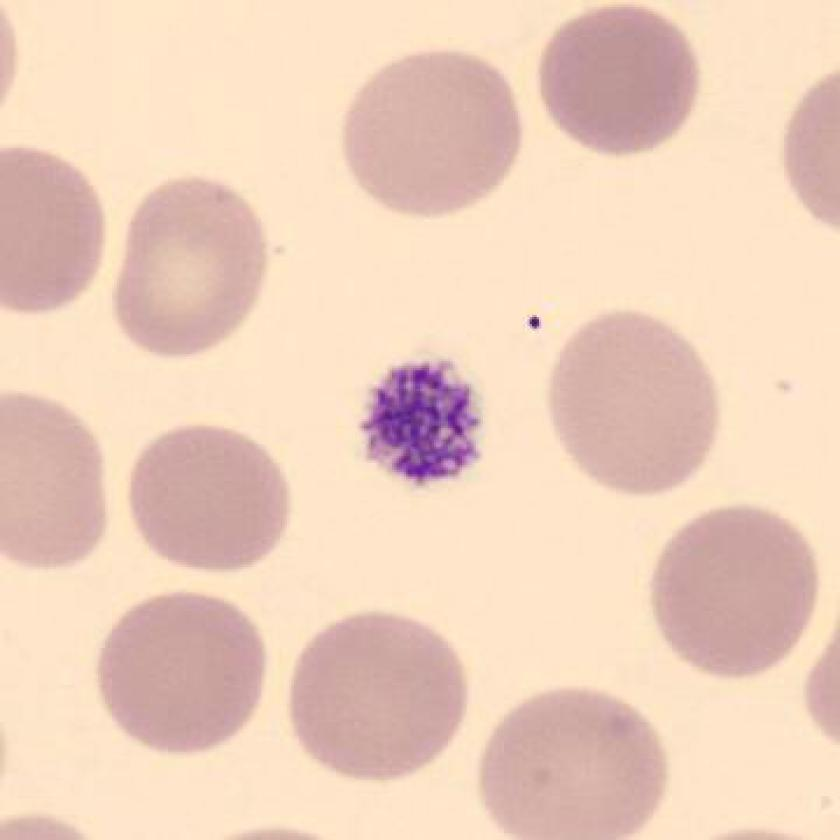platelets: (351, 346, 500, 508)
